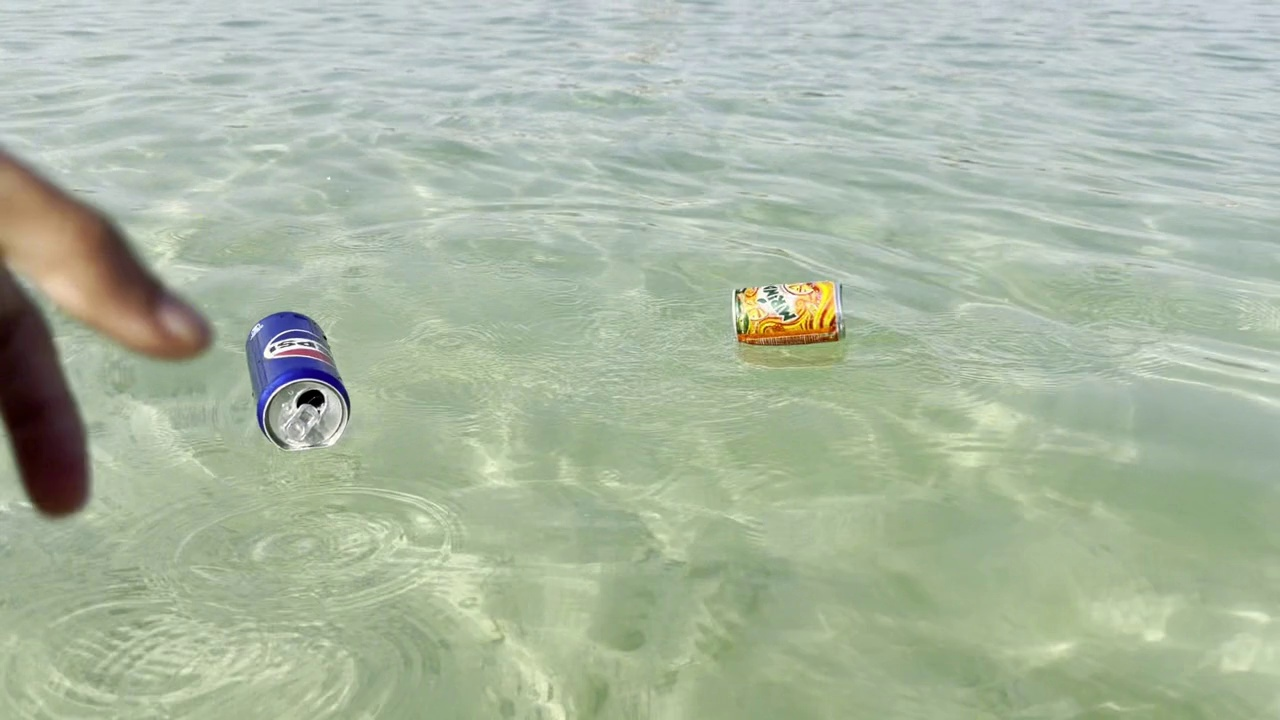debris: (229, 298, 357, 461), (717, 266, 851, 354)
